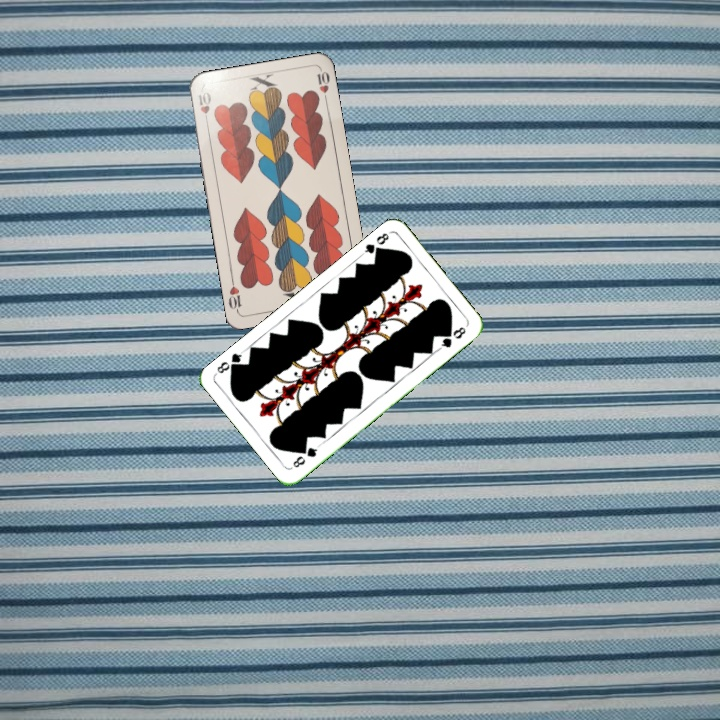G8: (358, 228, 392, 259), (289, 441, 322, 470)
H10: (194, 88, 213, 127)
